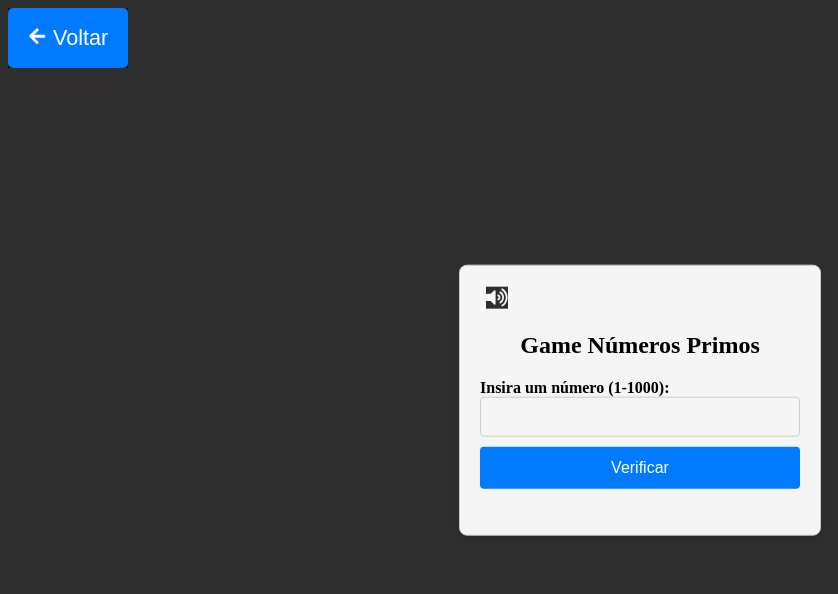
PrimeNumber Page › should show the message: Por favor, insira um número válido entre 1 e 1000. when entering an non number valid in the input
The width and height of the screenshot is (838, 594).
Type "0" into the number field labelled "Insira um número (1-1000):" at coordinates (640, 416), box [480,396,800,436]
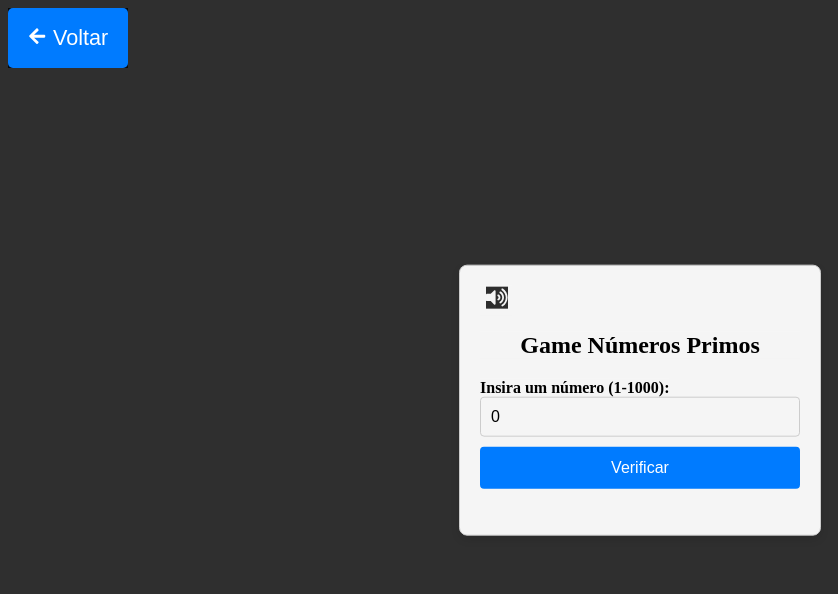
Click the button with test id "send-form" at coordinates (640, 467), box [480,446,800,488]
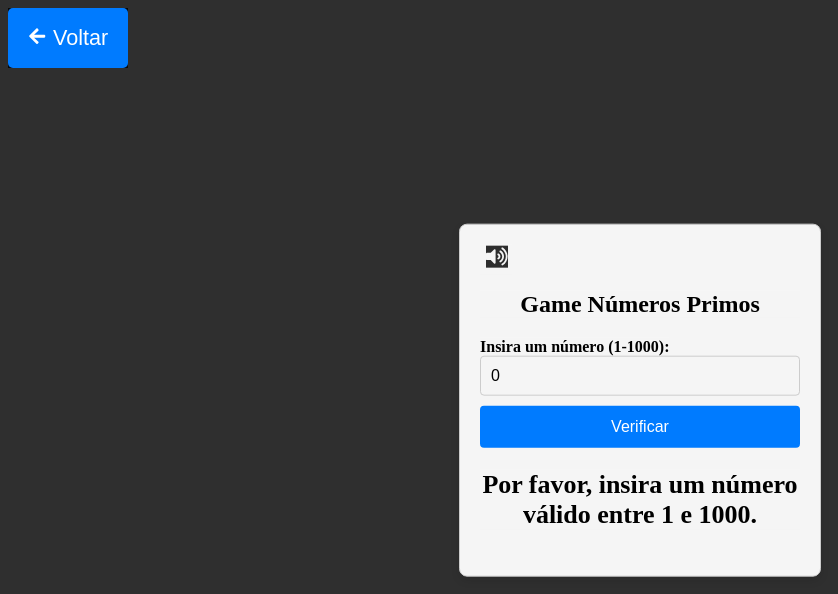
Check: the text with test id "result-text" reads "Por favor, insira um número válido entre 1 e 1000.", box [482,469,798,528]
